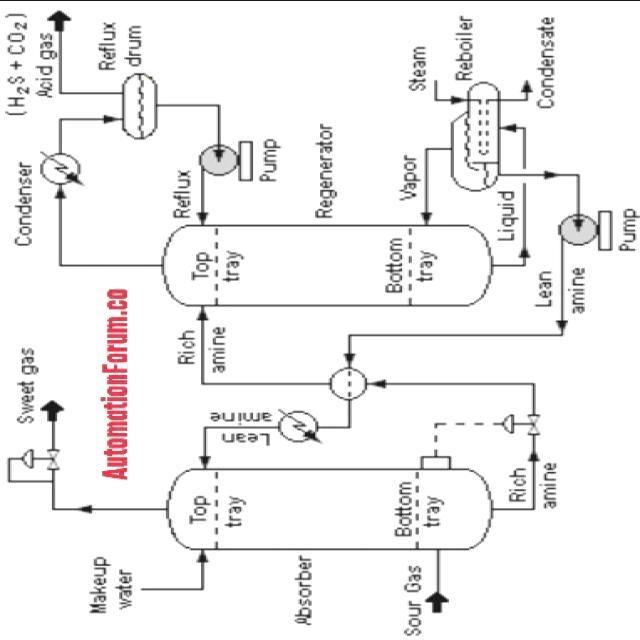Centrifugal Pump: (192, 136, 260, 188), (554, 207, 614, 253)
Pneumatic-Diaphragm Gate Valve: (494, 410, 544, 440), (19, 447, 62, 470)
